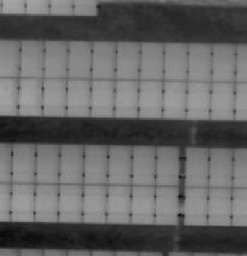solar: (17, 38, 47, 79), (41, 38, 71, 79), (64, 39, 94, 80), (89, 39, 119, 80), (112, 40, 142, 81), (136, 40, 166, 81), (161, 41, 191, 82), (185, 41, 215, 82), (209, 41, 239, 82), (14, 75, 44, 116), (37, 76, 67, 117), (64, 76, 94, 117), (87, 76, 117, 117), (112, 77, 142, 118), (135, 78, 165, 119), (160, 78, 190, 119), (183, 78, 213, 119), (208, 79, 238, 120), (8, 142, 38, 183), (32, 142, 62, 183), (57, 143, 87, 184), (80, 143, 110, 184), (104, 143, 134, 184), (129, 143, 159, 184), (151, 145, 181, 186), (181, 145, 211, 186), (205, 146, 235, 187), (7, 181, 37, 222), (30, 181, 60, 222), (56, 182, 86, 223), (79, 181, 109, 222), (103, 182, 133, 223), (128, 182, 158, 223), (150, 183, 180, 224), (181, 184, 211, 225), (204, 184, 234, 225)
